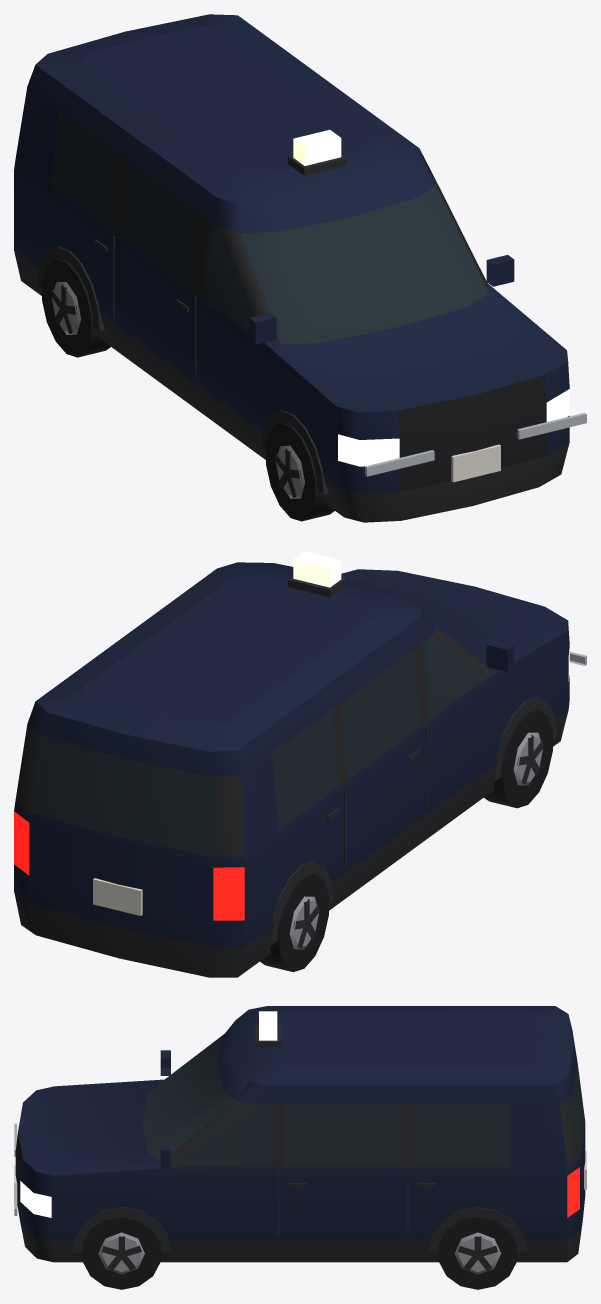
File: tokyo_taxi.glb
3 renders of one model, top to bottom at view 1: azimuth 30°, elevation 25°; view 2: azimuth 150°, elevation 25°; view 3: azimuth 270°, elevation 25°, orthographic. The views are drawn at different scales.
Parts seen in each view (by area): view 1: tokyo_taxi; view 2: tokyo_taxi; view 3: tokyo_taxi.
Boxes of the visible parts, x1=… form: tokyo_taxi: x1=14, y1=14, x2=586, y2=522; tokyo_taxi: x1=14, y1=551, x2=586, y2=977; tokyo_taxi: x1=14, y1=1006, x2=586, y2=1289.
Bounding box in the file's own units: 1.84 × 1.92 × 4.42.
1 material, 1 textured.
